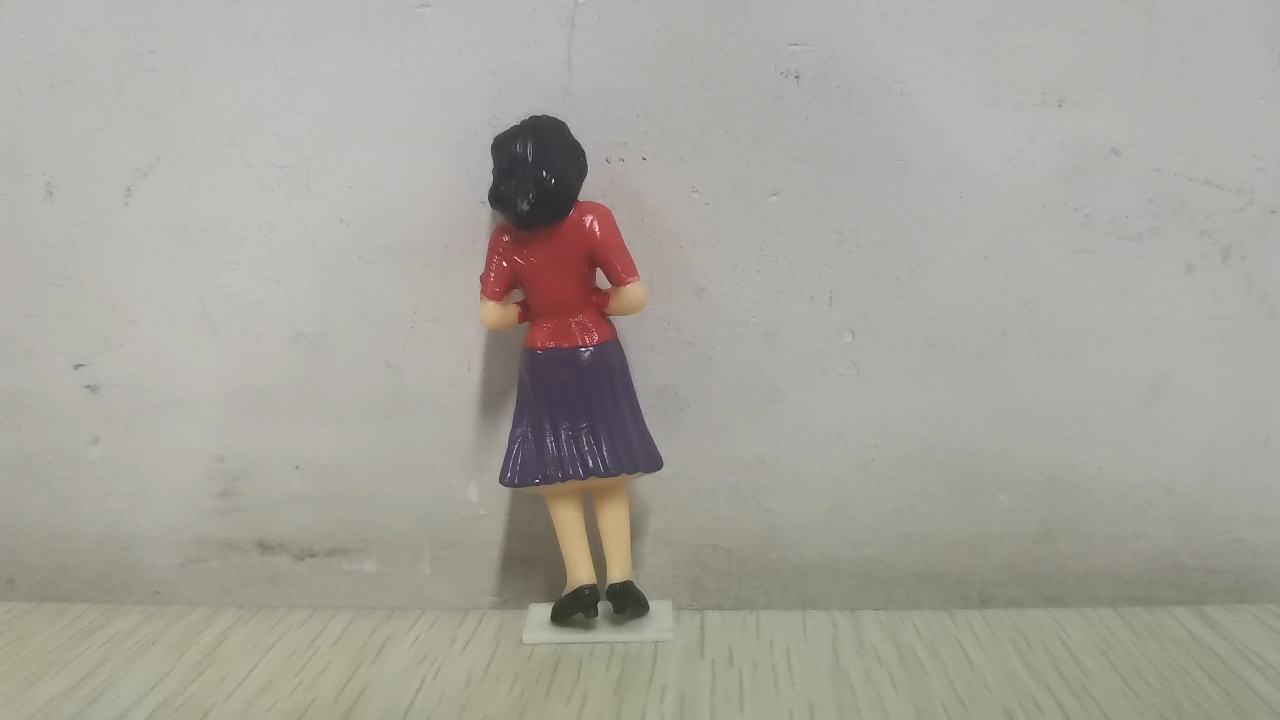person: (474, 112, 666, 626)
